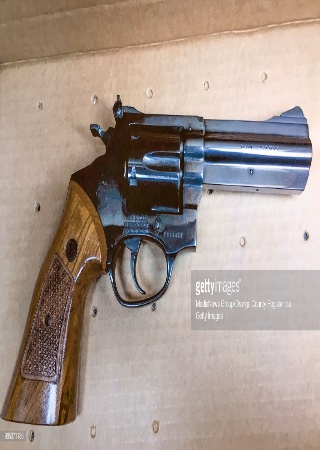handgun: (2, 105, 310, 424)
